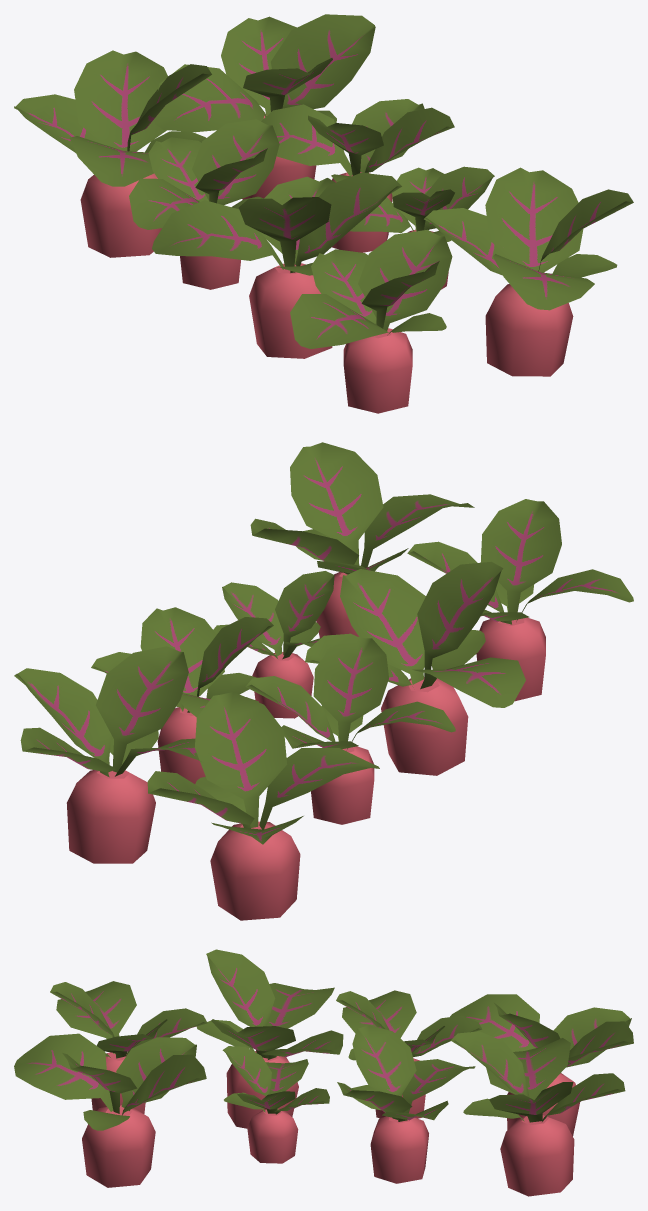
File: farm_radish.FBX
3 renders of one model, top to bottom at view 1: azimuth 30°, elevation 25°; view 2: azimuth 150°, elevation 25°; view 3: azimuth 270°, elevation 25°, orthographic. The views are drawn at different scales.
Parts seen in each view (by area): view 1: Cylinder014; view 2: Cylinder014; view 3: Cylinder014.
Boxes of the visible parts, bbox=[...] form: Cylinder014: bbox=[14, 14, 633, 413]; Cylinder014: bbox=[14, 442, 633, 920]; Cylinder014: bbox=[14, 949, 633, 1196].
Size of the model in its own units: 6.75 by 3.67 by 12.12.
1 material, 1 textured.
